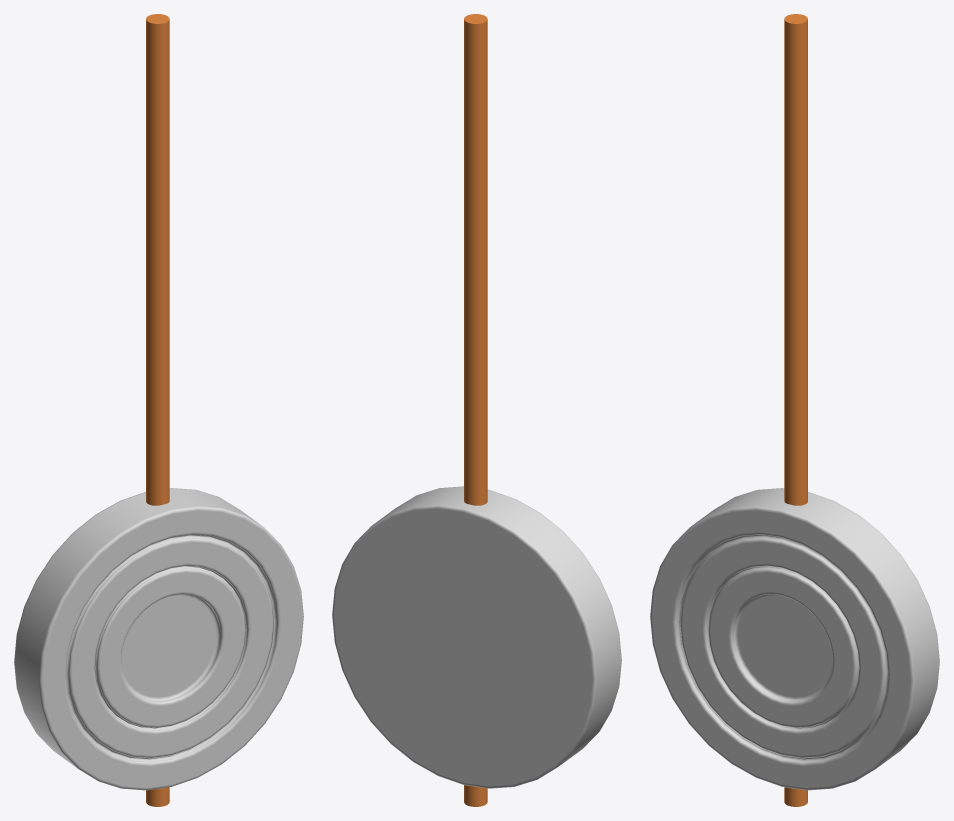
File: Pendulum.fbx
3 renders of one model, left to right at view 1: azimuth 30°, elevation 25°; view 2: azimuth 150°, elevation 25°; view 3: azimuth 330°, elevation 25°, orthographic.
Parts seen in each view (by area): view 1: Cylinder; view 2: Cylinder; view 3: Cylinder.
Part boxes in pixels (x1=…): Cylinder: x1=14, y1=14, x2=303, y2=806; Cylinder: x1=332, y1=14, x2=621, y2=806; Cylinder: x1=650, y1=14, x2=939, y2=806.
Bounding box in the file's own units: 383 × 1084 × 68.09.
